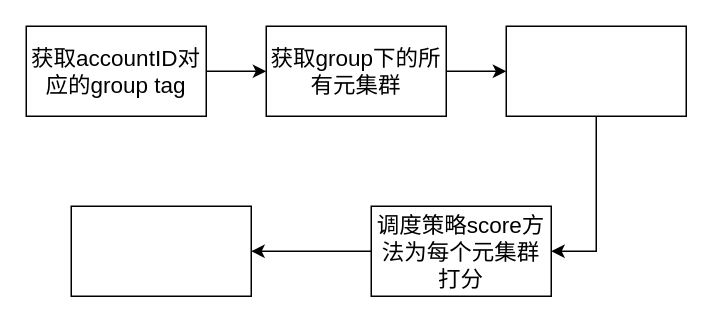
The diagram is 713 pixels wide and 323 high, and some of its shapes have lost their labels. Each missing label, with the box of its shape:
调度策略filter方法过滤元集群: (505, 25, 686, 116)
返回得分最高的元集群: (70, 205, 251, 296)
